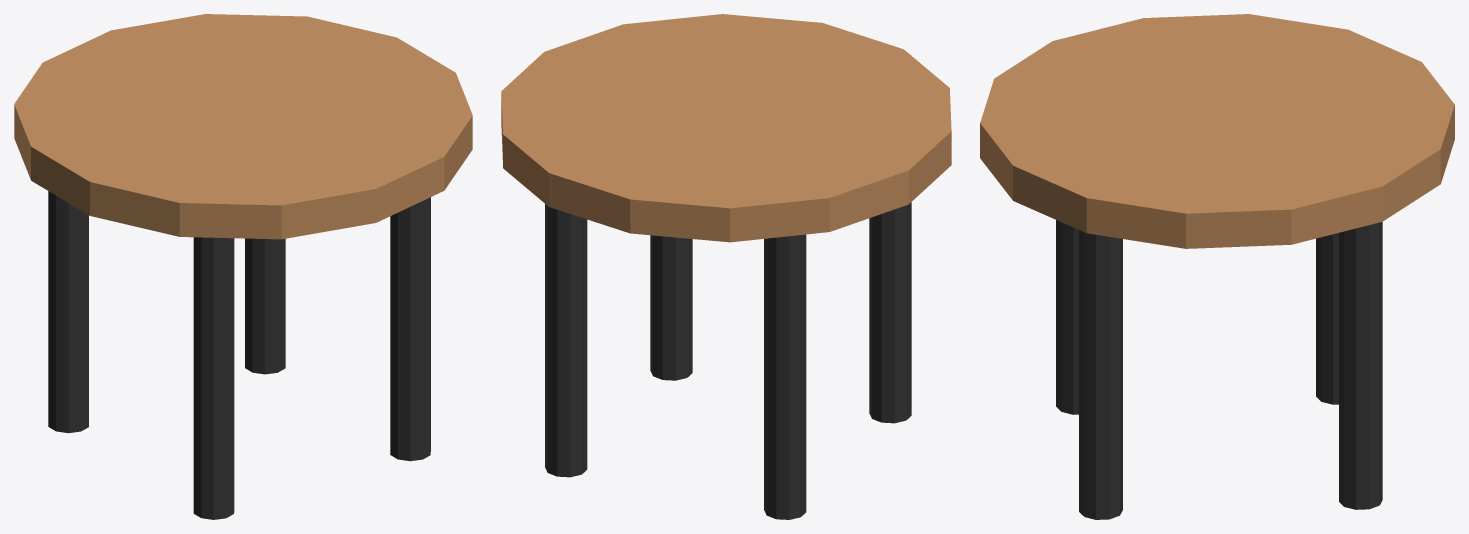
The model's file is kitchen_table.fbx.
The picture shows the model from 3 angles, left to right: view 1: azimuth 30°, elevation 25°; view 2: azimuth 150°, elevation 25°; view 3: azimuth 270°, elevation 25°; orthographic projection. The views are drawn at different scales.
Visible parts, largest first — view 1: kitchen_table; view 2: kitchen_table; view 3: kitchen_table.
Boxes of the visible parts, x1,y1,x2,y2 form: kitchen_table: [14, 14, 472, 519]; kitchen_table: [501, 14, 951, 519]; kitchen_table: [980, 14, 1454, 519].
Bounding box in the file's own units: 1586 × 1262 × 1593.
